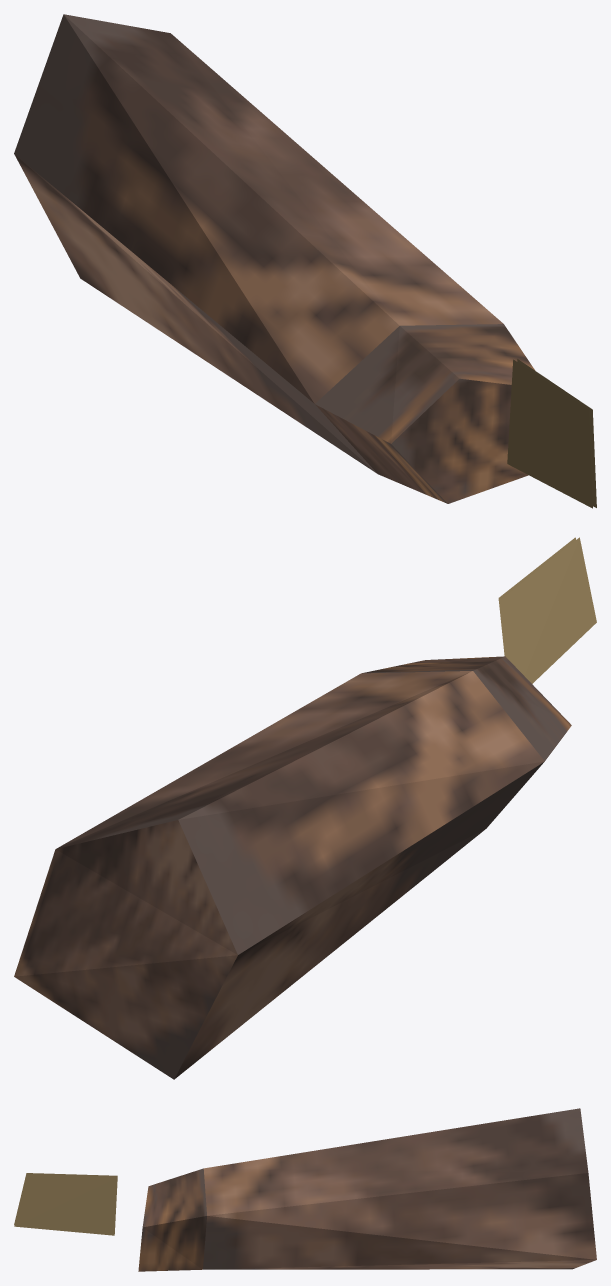
File: SM_Stock_hare_foot.fbx
3 renders of one model, top to bottom at view 1: azimuth 30°, elevation 25°; view 2: azimuth 150°, elevation 25°; view 3: azimuth 270°, elevation 25°, orthographic. The views are drawn at different scales.
Parts seen in each view (by area): view 1: Stock_hare_foot_Visual; view 2: Stock_hare_foot_Visual; view 3: Stock_hare_foot_Visual.
Part boxes in pixels (x1,y1,x2,y2): Stock_hare_foot_Visual: (14, 14, 596, 508); Stock_hare_foot_Visual: (14, 537, 596, 1079); Stock_hare_foot_Visual: (14, 1108, 596, 1271).
Size of the model in its own units: 0.0717 by 0.0891 by 0.2981.
